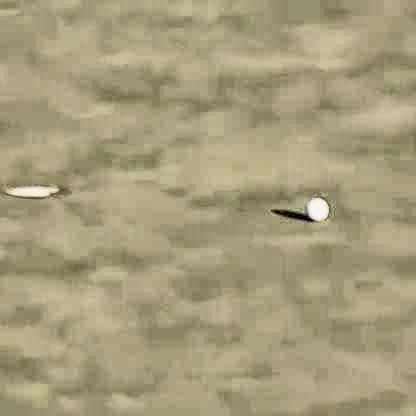golfball: (303, 189, 325, 217)
